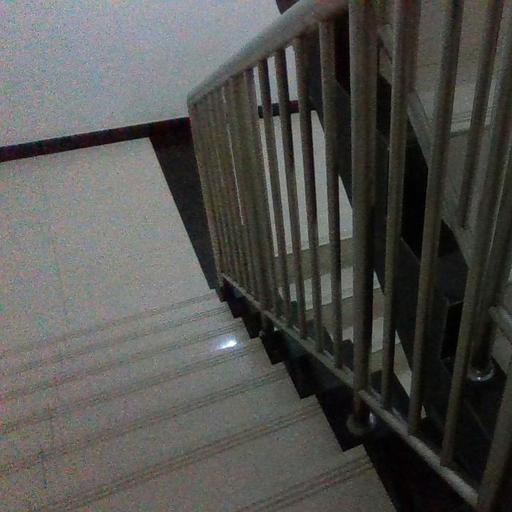Stairs: (0, 292, 392, 512)
